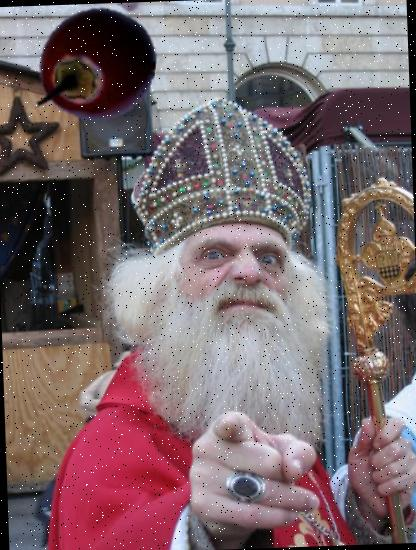Tamarillo: (36, 3, 158, 126)
